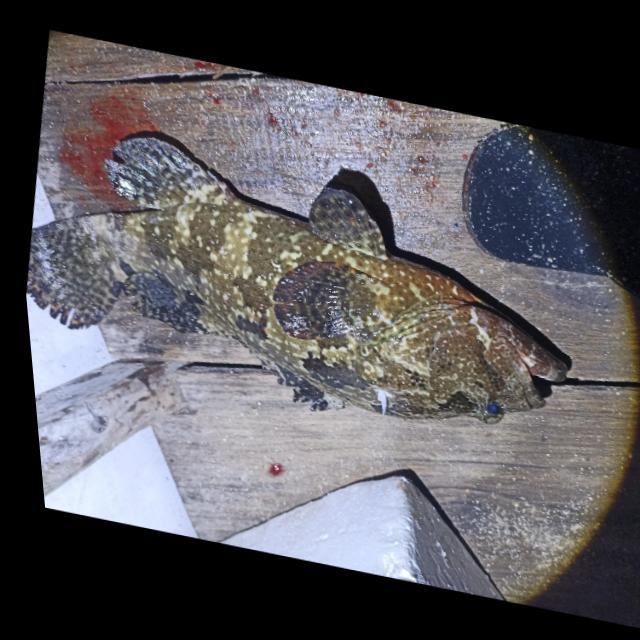Groupers: (10, 109, 602, 465)
